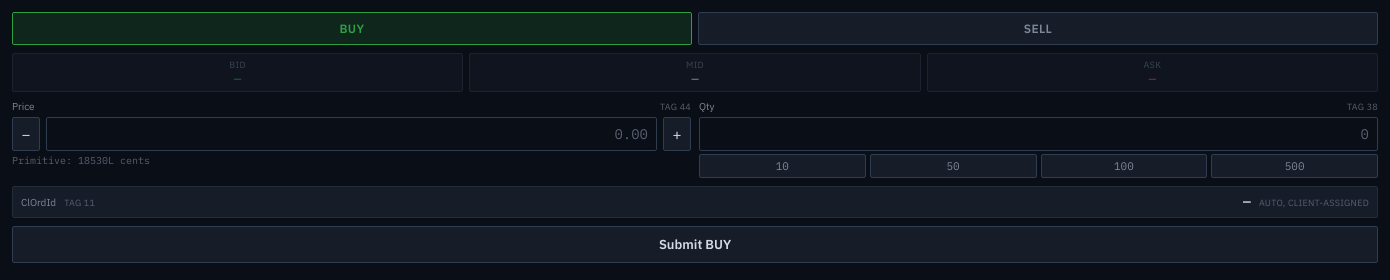
Test: <OrderEntry /> quantity presets (P7-7) › fills the quantity when the field is empty
Click the button with test id "qty-preset-100". click: coordinates (1124, 166)
box: [1040, 154, 1207, 178]
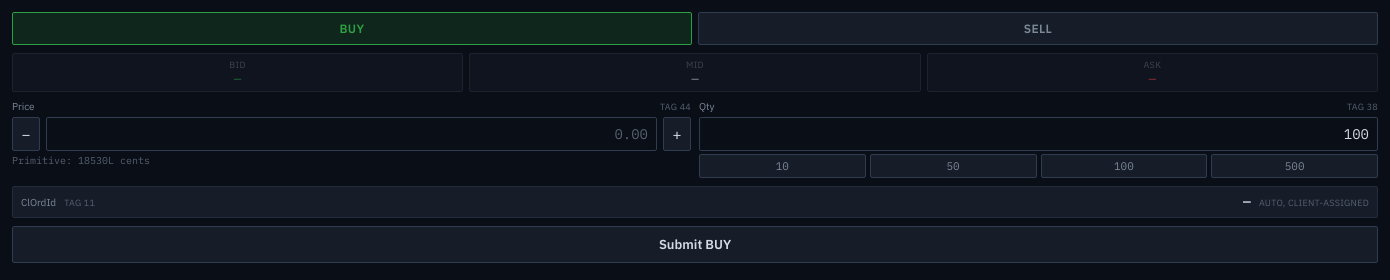
Expected: the field with test id "qty-input" holds "100", [699, 117, 1378, 151]
